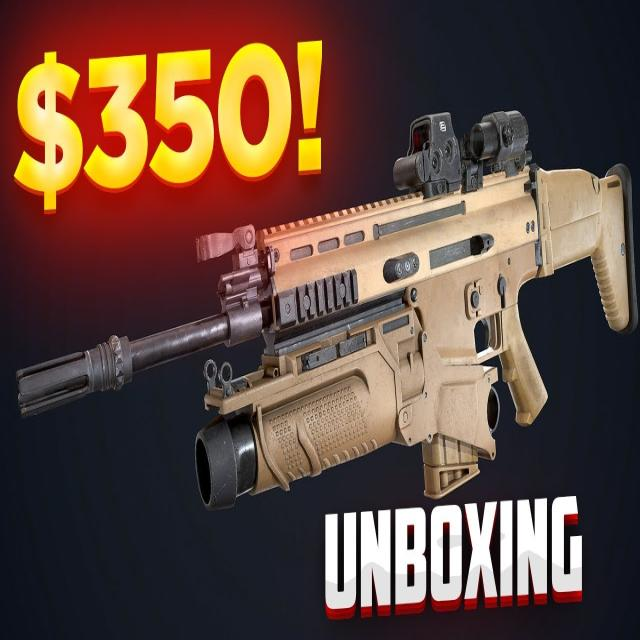Rifle: (16, 110, 640, 513)
